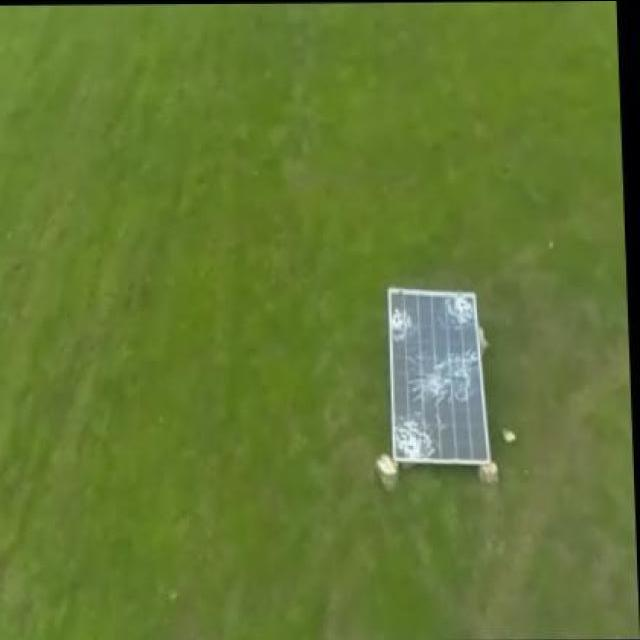cracked: (381, 288, 488, 467)
